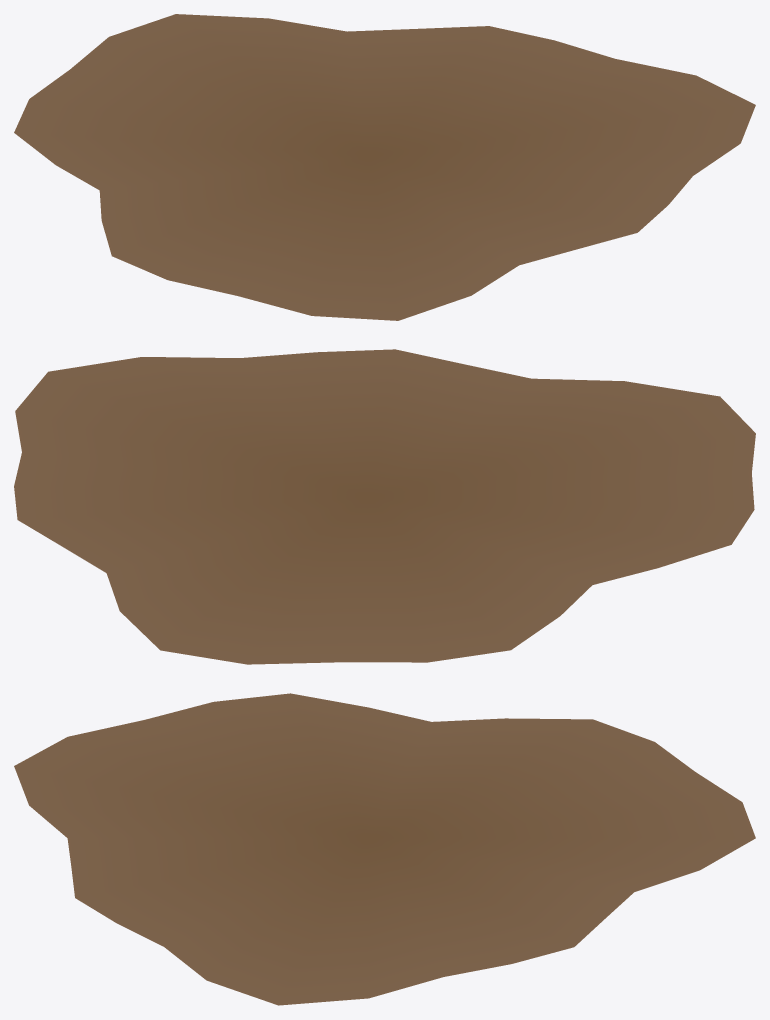
The model's file is bank_path.glb.
3 renders of one model, top to bottom at view 1: azimuth 30°, elevation 25°; view 2: azimuth 150°, elevation 25°; view 3: azimuth 270°, elevation 25°, orthographic. The views are drawn at different scales.
Visible parts, largest first — view 1: Bank_Path_Mud; view 2: Bank_Path_Mud; view 3: Bank_Path_Mud.
Part boxes in pixels (x1=…): Bank_Path_Mud: x1=14, y1=14, x2=755, y2=320; Bank_Path_Mud: x1=14, y1=349, x2=755, y2=664; Bank_Path_Mud: x1=14, y1=693, x2=755, y2=1005.
Size of what is drawn, in the model's own units: 2.9 by 0 by 2.91.
